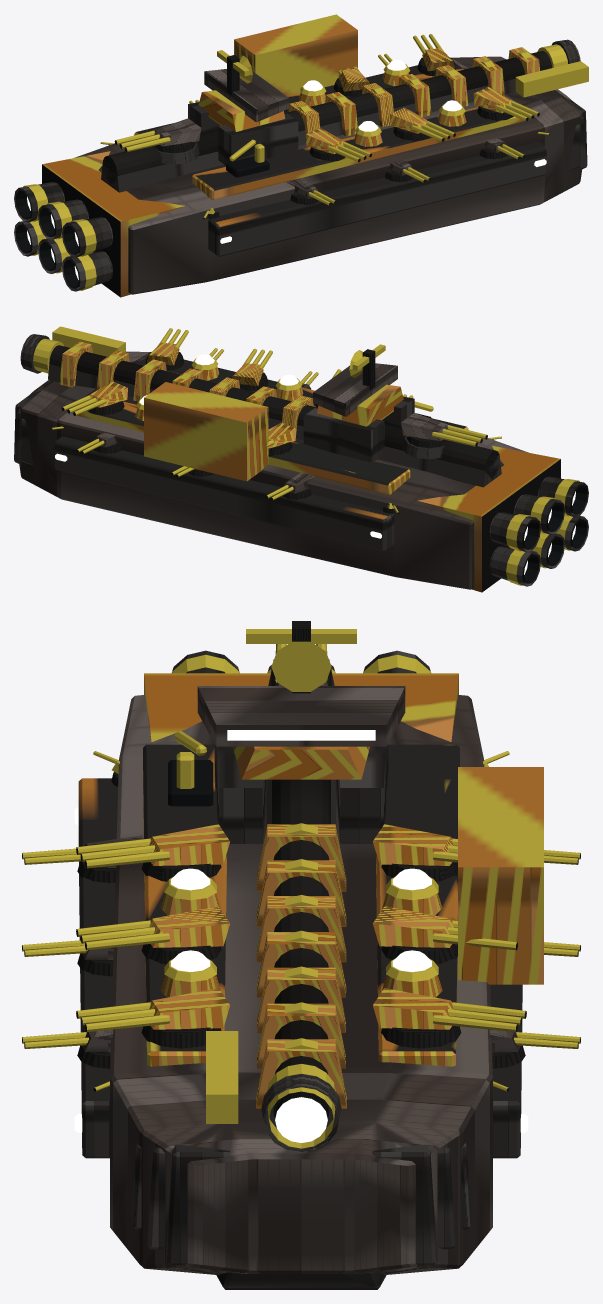
The model's file is battleship.glb.
3 renders of one model, top to bottom at view 1: azimuth 30°, elevation 25°; view 2: azimuth 150°, elevation 25°; view 3: azimuth 270°, elevation 25°, orthographic. The views are drawn at different scales.
Parts seen in each view (by area): view 1: hull_body, weapon_mounts, engine_block, sensor_tower, shield_domes; view 2: hull_body, weapon_mounts, engine_block, sensor_tower, shield_domes; view 3: hull_body, weapon_mounts, sensor_tower, engine_block, shield_domes.
Part boxes in pixels (bbox=[...]): hull_body: bbox=[74, 14, 588, 294]; weapon_mounts: bbox=[100, 34, 580, 219]; engine_block: bbox=[14, 151, 184, 297]; sensor_tower: bbox=[188, 50, 298, 165]; shield_domes: bbox=[299, 60, 466, 146]; hull_body: bbox=[14, 326, 528, 589]; weapon_mounts: bbox=[20, 328, 501, 514]; engine_block: bbox=[417, 445, 588, 592]; sensor_tower: bbox=[303, 344, 414, 462]; shield_domes: bbox=[135, 354, 303, 420]; hull_body: bbox=[74, 695, 543, 1289]; weapon_mounts: bbox=[22, 644, 580, 1152]; sensor_tower: bbox=[197, 621, 405, 843]; engine_block: bbox=[144, 650, 458, 741]; shield_domes: bbox=[160, 868, 442, 997].
Bounding box in the file's own units: 60 × 19.7 × 27.72.
Materials: 1 (1 with a texture image).
